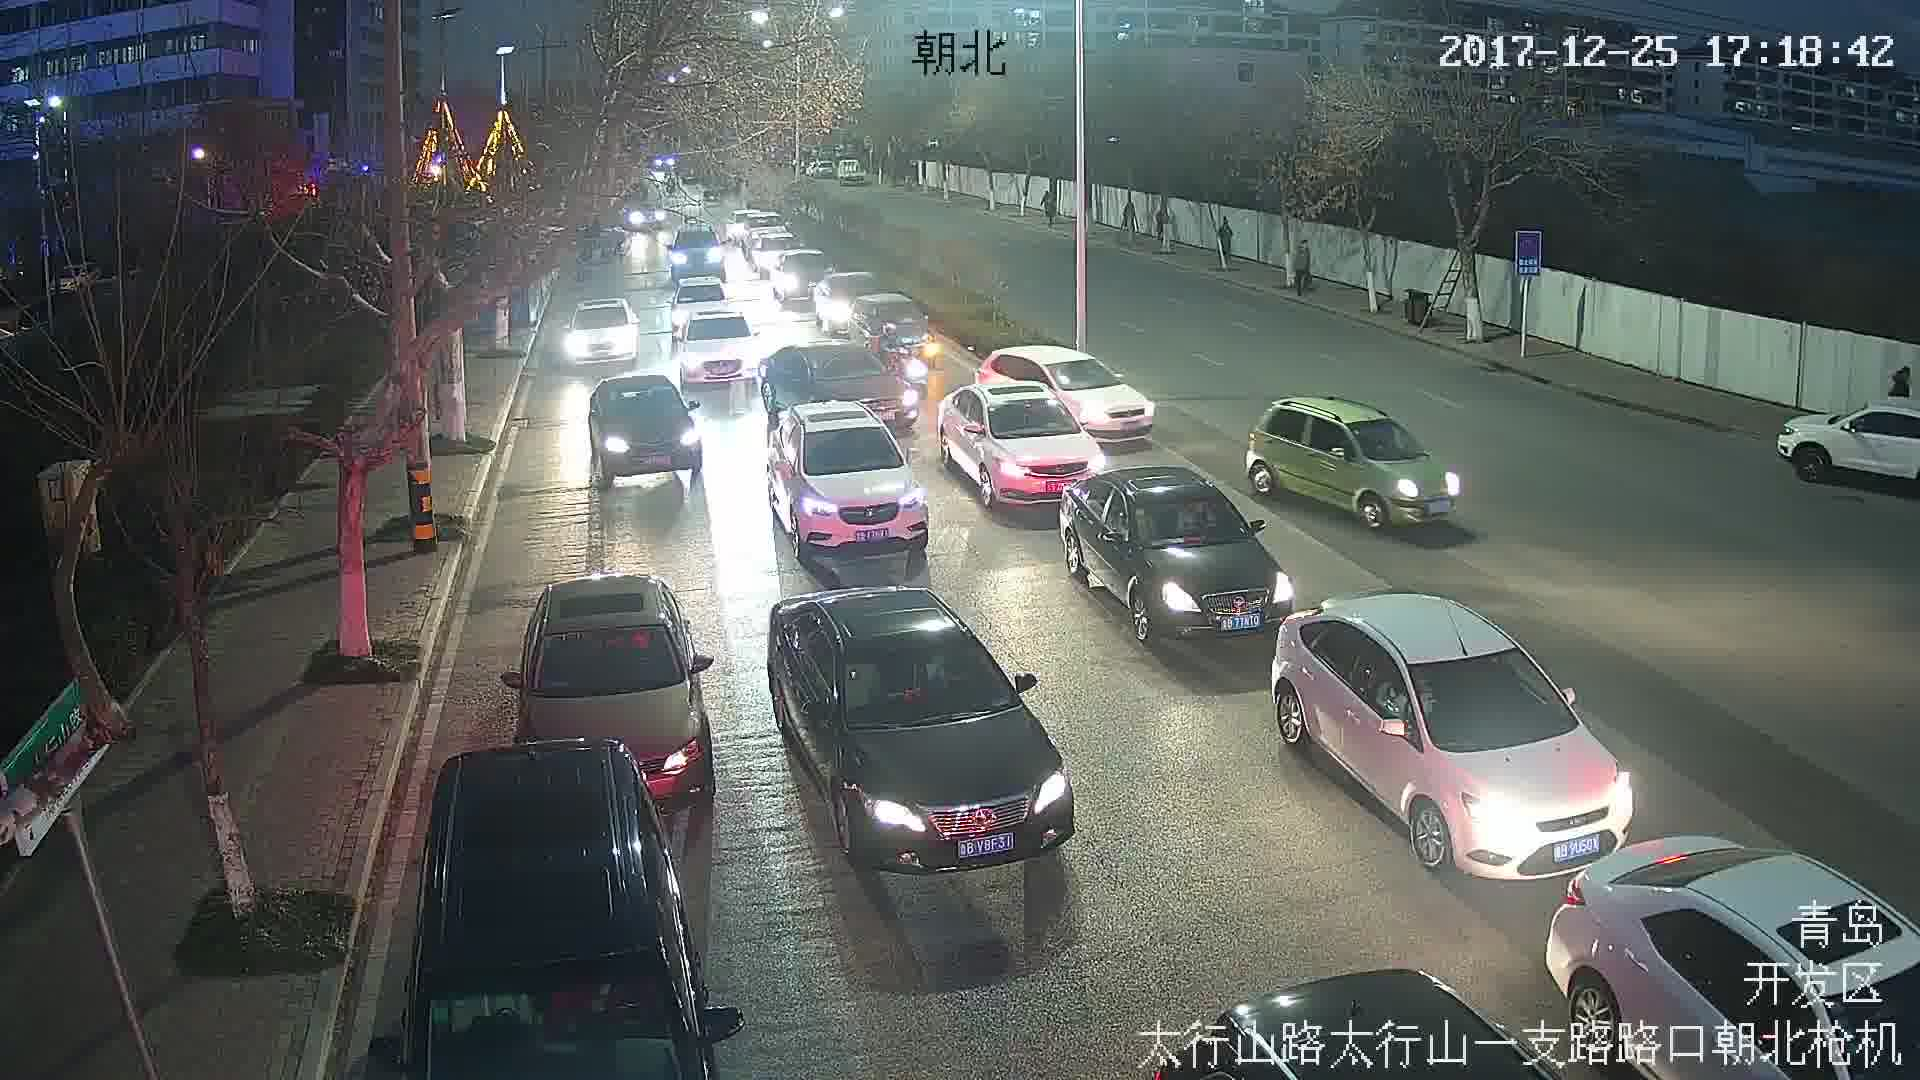car: (1271, 595, 1624, 882), (764, 591, 1084, 875), (502, 571, 718, 806), (1250, 396, 1467, 530), (762, 405, 930, 563), (939, 381, 1103, 506), (755, 342, 924, 427), (587, 374, 703, 480), (564, 295, 637, 370), (684, 313, 752, 384), (663, 221, 730, 285)
